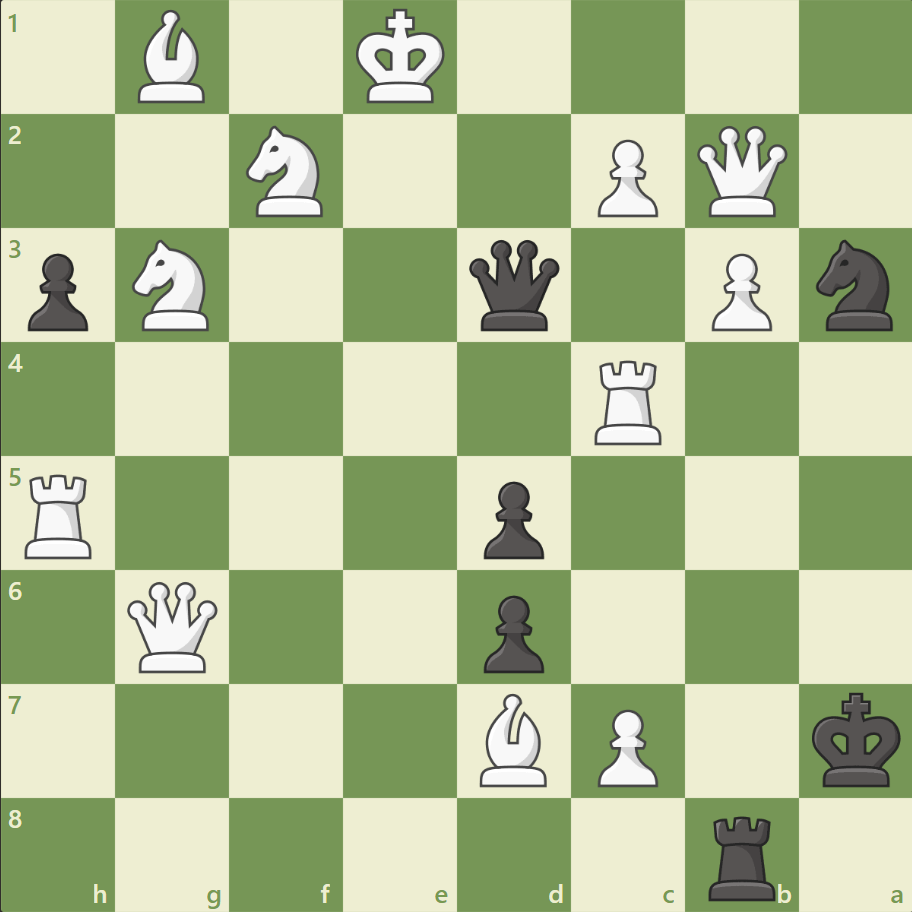B: (471, 687, 555, 790), (131, 6, 215, 109)
K: (351, 4, 451, 112)
N: (124, 234, 222, 337), (238, 121, 335, 223)
P: (701, 246, 776, 337), (588, 700, 662, 791), (588, 132, 662, 223)
Q: (124, 576, 223, 676), (691, 122, 790, 222)
R: (19, 466, 102, 563), (587, 352, 670, 449)
k: (806, 685, 906, 793)
n: (806, 234, 903, 337)
p: (474, 586, 549, 677), (474, 473, 549, 564), (20, 246, 95, 337)
q: (464, 236, 563, 335)
r: (700, 806, 783, 904)
